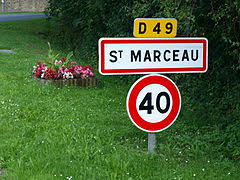Speed_limit_40km: (126, 74, 182, 132)
